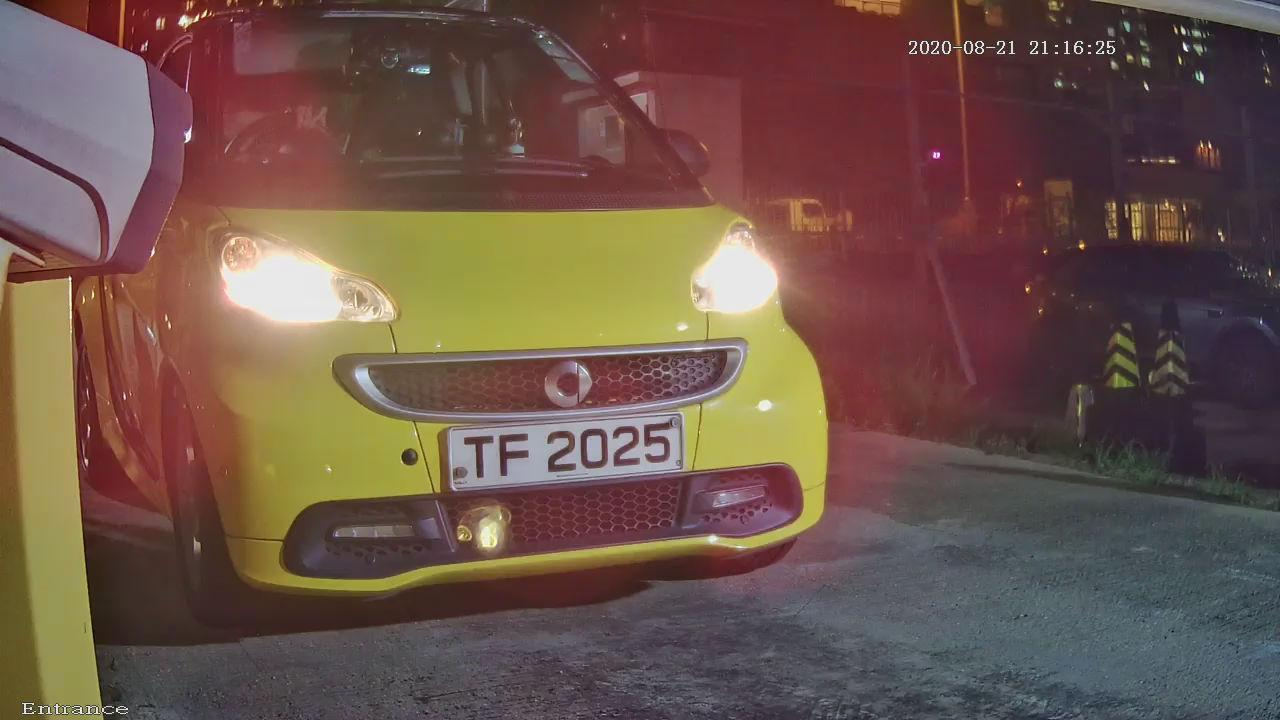Car: (52, 20, 955, 704)
License Plate: (405, 377, 721, 547)
